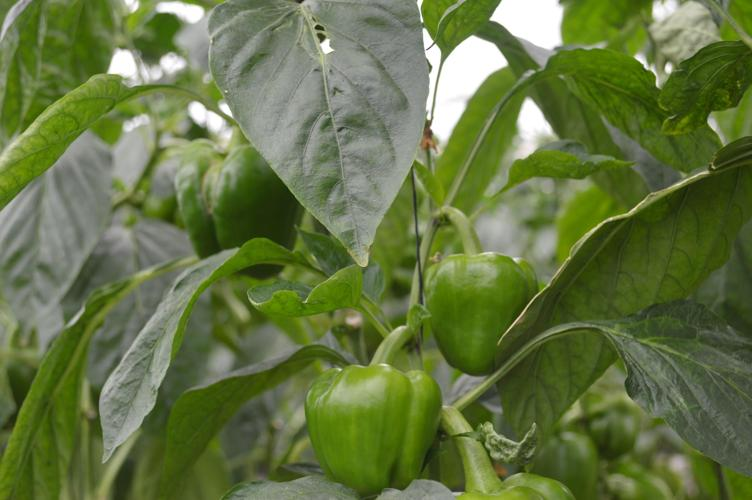BellPepper: (308, 362, 438, 488), (180, 148, 303, 270), (416, 251, 528, 369)
